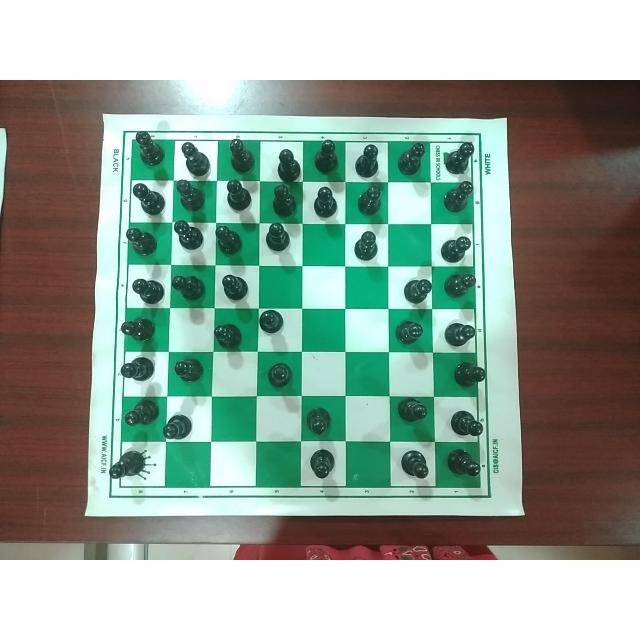black-pawn: (106, 446, 146, 485), (442, 445, 483, 478), (130, 179, 167, 215), (133, 127, 167, 166), (398, 445, 434, 481), (174, 177, 208, 215), (450, 357, 488, 391), (122, 395, 160, 429), (177, 140, 212, 176), (123, 224, 160, 258), (221, 177, 254, 215), (443, 140, 477, 176), (438, 230, 474, 264), (171, 356, 207, 390), (120, 313, 159, 344), (171, 219, 207, 252), (447, 407, 484, 439), (308, 445, 340, 482), (397, 138, 428, 176), (227, 136, 257, 175), (118, 355, 157, 385), (443, 268, 477, 302), (441, 180, 474, 215), (172, 271, 208, 303), (312, 134, 340, 175), (131, 273, 167, 304), (395, 395, 431, 426), (444, 314, 476, 348), (214, 223, 246, 256), (275, 145, 303, 182), (158, 412, 195, 440), (212, 318, 245, 349), (354, 142, 382, 178), (270, 182, 298, 218), (266, 358, 298, 389), (351, 229, 381, 262), (395, 316, 425, 349), (311, 184, 339, 219), (400, 272, 431, 303), (218, 271, 249, 301), (265, 221, 293, 254), (305, 403, 333, 435), (355, 184, 383, 215), (259, 307, 287, 337)
